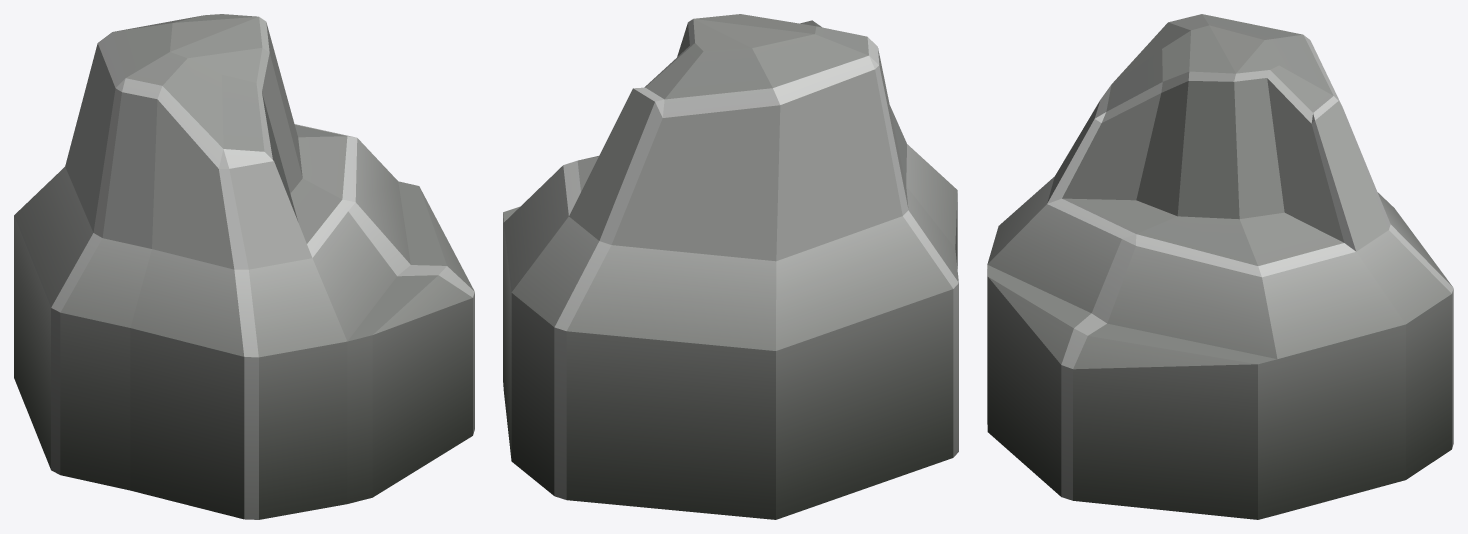
File: Rock-1-10.fbx
3 views of the same model, side by side, from view 1: azimuth 30°, elevation 25°; view 2: azimuth 150°, elevation 25°; view 3: azimuth 270°, elevation 25° (orthographic). The views are drawn at different scales.
Parts seen in each view (by area): view 1: Rock-1-10; view 2: Rock-1-10; view 3: Rock-1-10.
Boxes of the visible parts, left/top/right/bottom form: Rock-1-10: left=14, top=14, right=474, bottom=519; Rock-1-10: left=503, top=14, right=958, bottom=519; Rock-1-10: left=987, top=14, right=1453, bottom=519.
Size of the model in its own units: 336 by 306 by 353.
